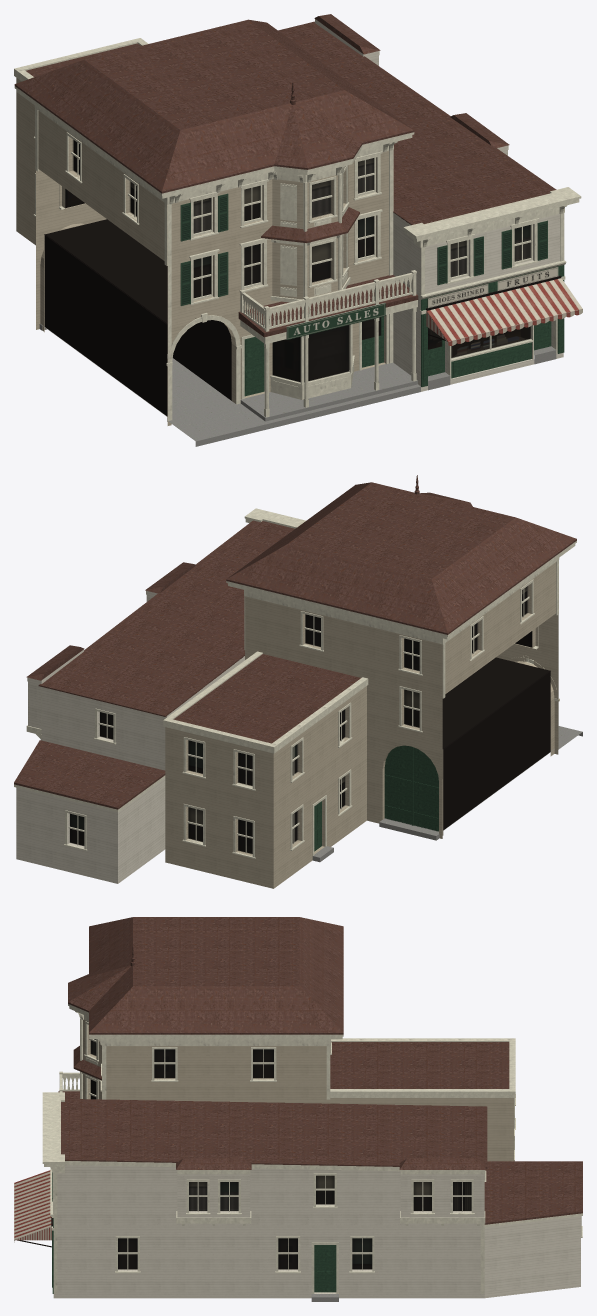
Rendered from block-40-46.glb.
3 renders of one model, top to bottom at view 1: azimuth 30°, elevation 25°; view 2: azimuth 150°, elevation 25°; view 3: azimuth 270°, elevation 25°, orthographic. The views are drawn at different scales.
Visible parts, largest first — view 1: Block4046; view 2: Block4046; view 3: Block4046.
Part boxes in pixels (x1=…): Block4046: x1=14, y1=14, x2=582, y2=446; Block4046: x1=14, y1=475, x2=582, y2=888; Block4046: x1=14, y1=917, x2=582, y2=1301.
Size of the model in its own units: 16.15 by 11.47 by 23.05.
Materials: 10 (9 with a texture image).
